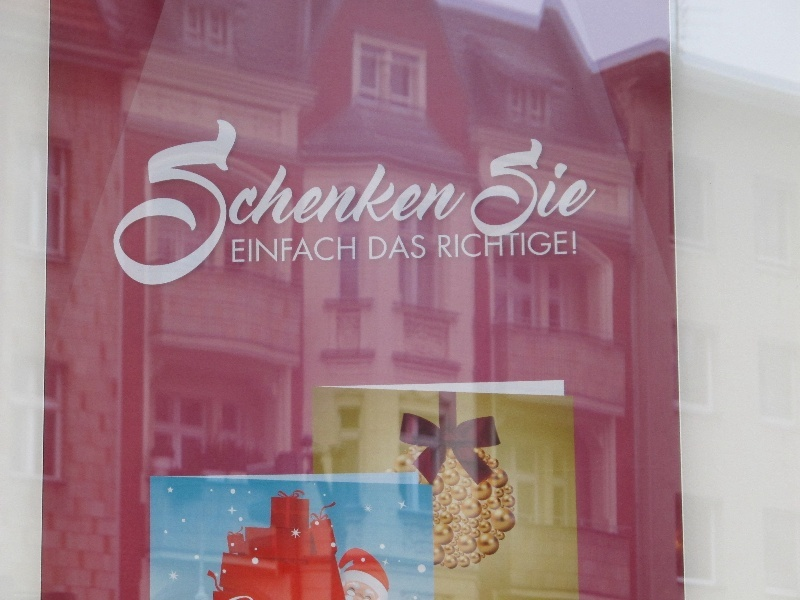text: (129, 113, 144, 313), (145, 113, 160, 313), (161, 113, 176, 313), (177, 113, 192, 313), (193, 113, 208, 313), (209, 113, 224, 313), (225, 113, 240, 313), (241, 113, 256, 313), (257, 113, 272, 313), (273, 113, 288, 313), (289, 113, 304, 313), (305, 113, 320, 313), (321, 113, 336, 313), (337, 113, 352, 313), (353, 113, 368, 313), (369, 113, 384, 313), (385, 113, 400, 313), (401, 113, 416, 313), (417, 113, 432, 313), (433, 113, 448, 313), (449, 113, 464, 313), (465, 113, 480, 313), (481, 136, 496, 242), (497, 136, 512, 242), (513, 136, 528, 242), (529, 136, 544, 242), (545, 136, 560, 242), (561, 136, 576, 242), (577, 136, 592, 242), (593, 136, 600, 242), (481, 113, 484, 313), (449, 231, 464, 258), (465, 231, 480, 258), (481, 231, 496, 258), (497, 231, 512, 258), (513, 231, 528, 258), (529, 231, 544, 258), (545, 231, 560, 258), (561, 231, 576, 258), (126, 113, 128, 313), (241, 237, 256, 263), (257, 237, 272, 263), (273, 237, 288, 263), (289, 237, 304, 263), (305, 237, 320, 263), (321, 237, 336, 263), (337, 237, 352, 263), (385, 235, 400, 259), (401, 235, 416, 259), (370, 235, 384, 259), (439, 231, 448, 258), (417, 235, 427, 259), (478, 136, 480, 242), (232, 237, 240, 263), (353, 237, 355, 263)
